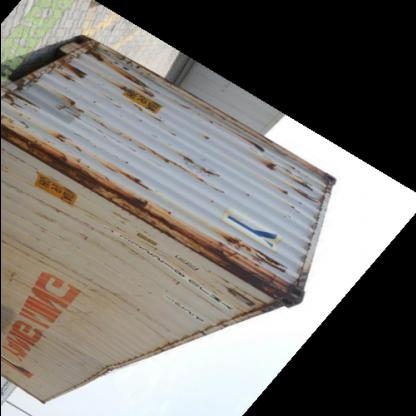Damage: (199, 228, 303, 310), (72, 157, 148, 217), (6, 97, 72, 163), (50, 52, 138, 96), (86, 333, 146, 386), (155, 146, 230, 188), (262, 152, 319, 198)
